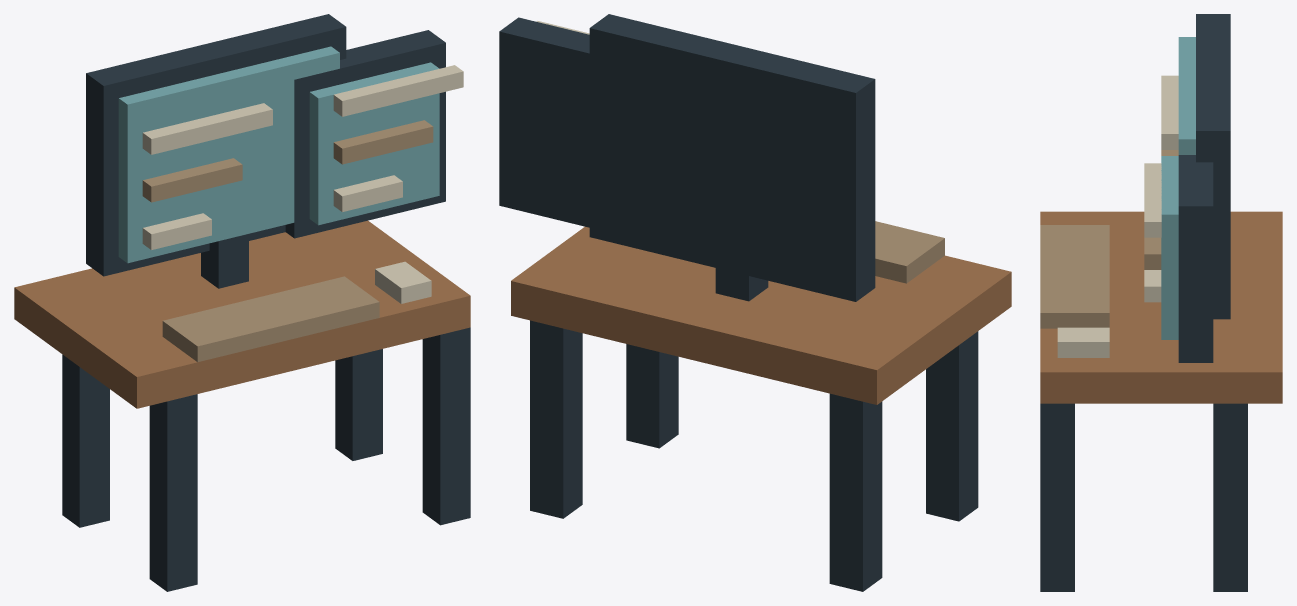
File: architecture-12.glb
3 views of the same model, side by side, from view 1: azimuth 30°, elevation 25°; view 2: azimuth 150°, elevation 25°; view 3: azimuth 270°, elevation 25° (orthographic). The views are drawn at different scales.
Visible parts, largest first — view 1: CAD terminal; view 2: CAD terminal; view 3: CAD terminal.
Boxes of the visible parts, box(x1,y1,x2,y2) form: CAD terminal: box(14, 14, 470, 591); CAD terminal: box(499, 14, 1011, 591); CAD terminal: box(1040, 14, 1282, 591).
Size of the model in its own units: 2 by 2.24 by 1.12.
